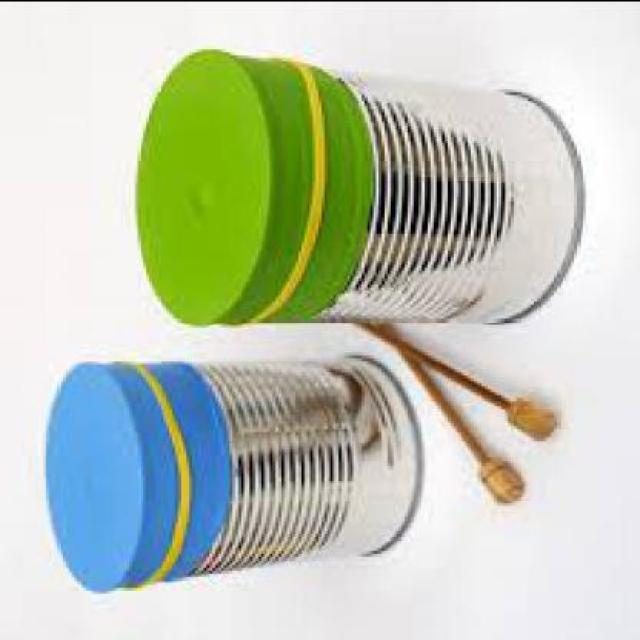METAL: (309, 62, 580, 323), (124, 354, 419, 575)
